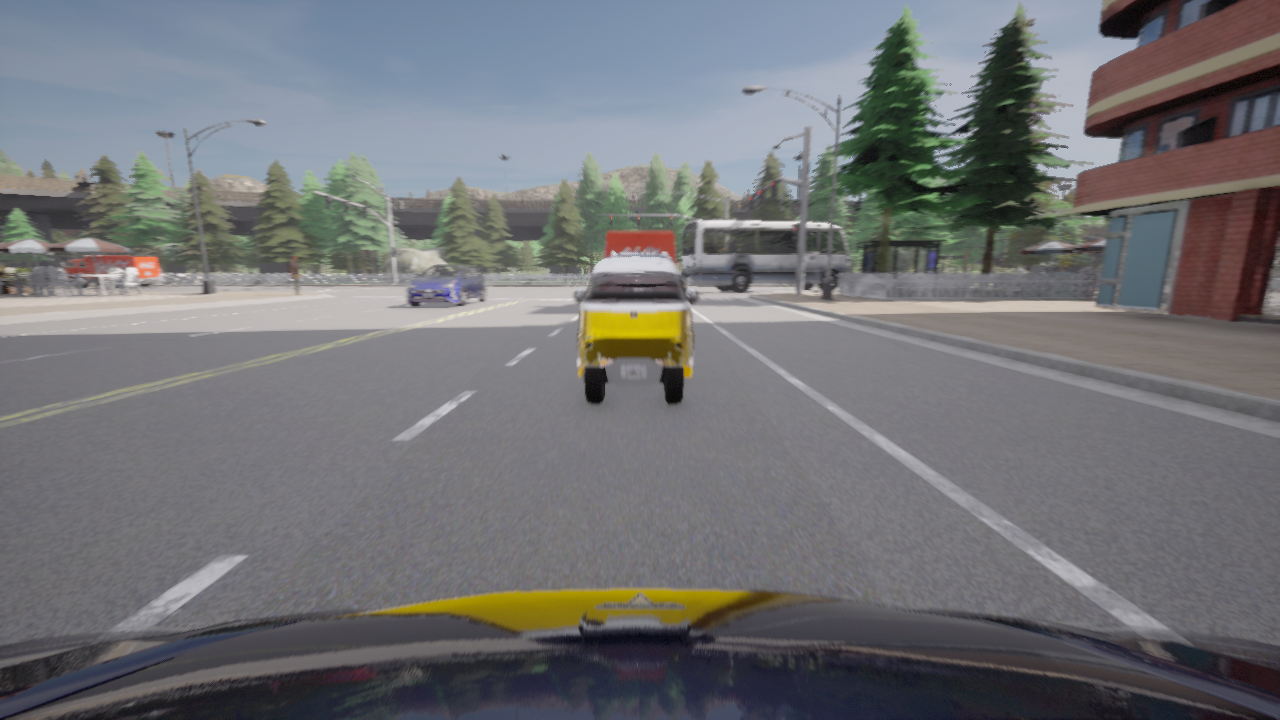cyclist: (0, 588, 1279, 719), (573, 258, 698, 404), (680, 220, 858, 293), (405, 265, 486, 307), (60, 255, 162, 288), (608, 251, 686, 292), (604, 231, 676, 269)
pedestrian: (289, 256, 302, 295)
